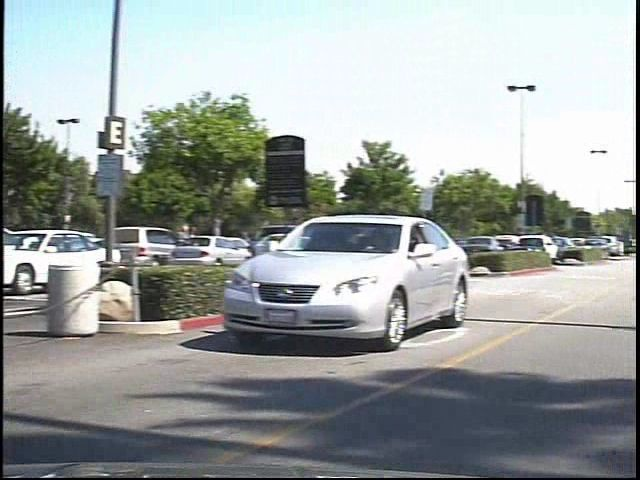person: (183, 218, 211, 268)
